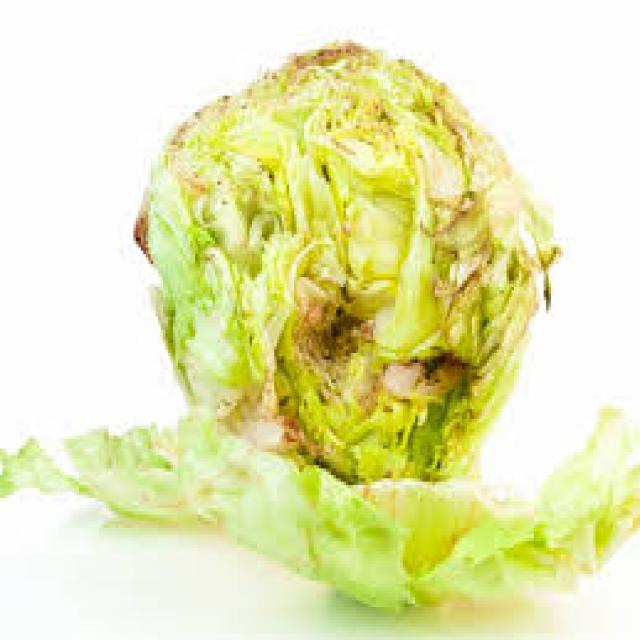organic waste: (128, 36, 556, 478), (0, 406, 638, 607)
